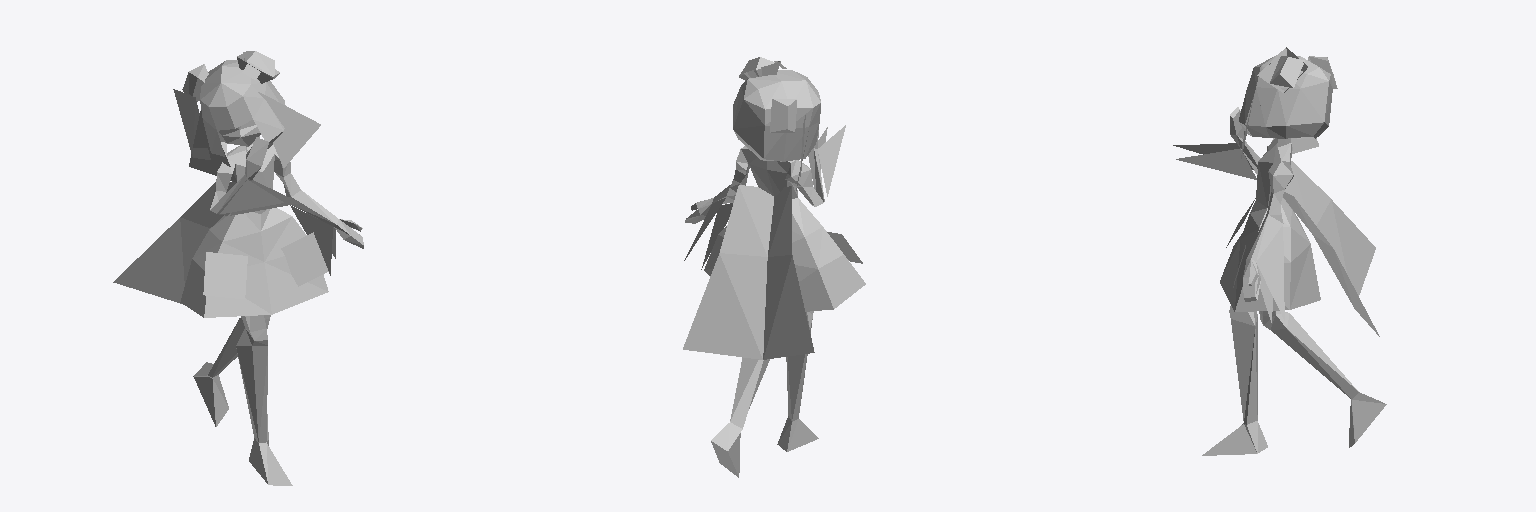
The model's file is rushia.obj.
The picture shows the model from 3 angles: view 1: azimuth 30°, elevation 25°; view 2: azimuth 150°, elevation 25°; view 3: azimuth 270°, elevation 25°; orthographic projection.
Parts seen in each view (by area): view 1: body_Plane.010, body.001_Plane.000; view 2: body_Plane.010, body.001_Plane.000; view 3: body_Plane.010, body.001_Plane.000.
Boxes of the visible parts, <box> form: body_Plane.010: <box>113,54,363,485</box>; body.001_Plane.000: <box>182,51,335,298</box>; body_Plane.010: <box>683,61,865,477</box>; body.001_Plane.000: <box>684,57,862,269</box>; body_Plane.010: <box>1202,47,1386,455</box>; body.001_Plane.000: <box>1173,56,1337,322</box>.
Bounding box in the file's own units: 2.23 × 4.51 × 2.18.